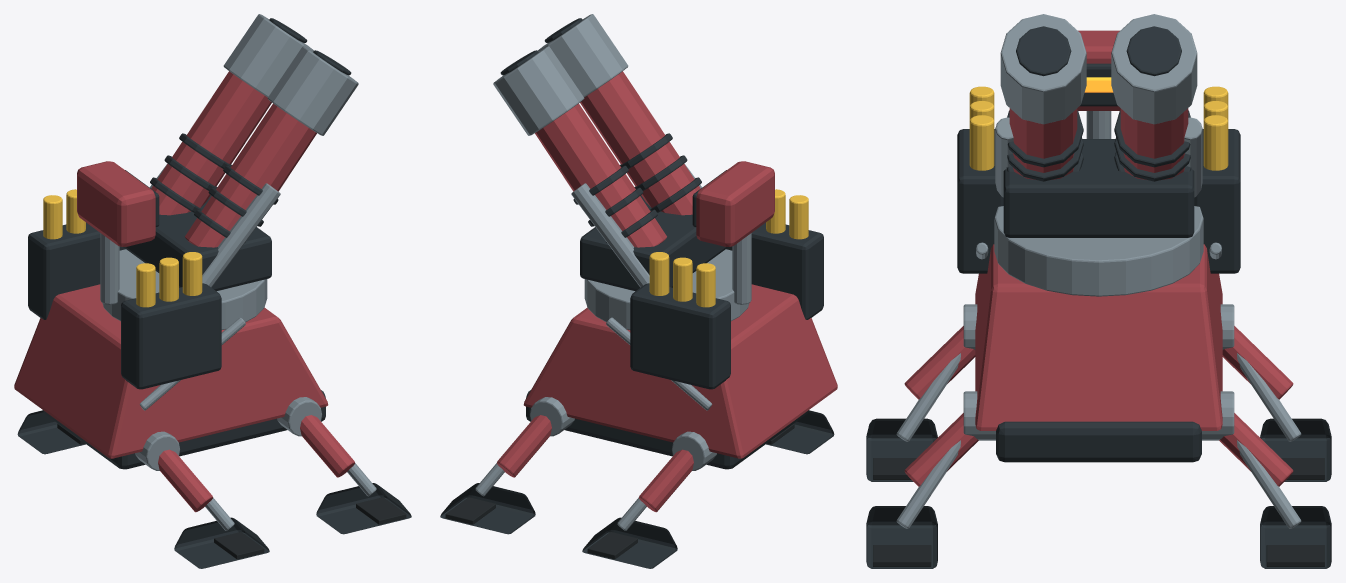
File: Mortar.glb
3 renders of one model, left to right at view 1: azimuth 30°, elevation 25°; view 2: azimuth 150°, elevation 25°; view 3: azimuth 270°, elevation 25°, orthographic. The views are drawn at different scales.
Visible parts, largest first — view 1: SM_Mortar_Body, SM_Mortar_Weapon, SM_Mortar_Sensor, SM_Mortar_LegRL, SM_Mortar_LegFL, SM_Mortar_LegRR; view 2: SM_Mortar_Body, SM_Mortar_Weapon, SM_Mortar_Sensor, SM_Mortar_LegRR, SM_Mortar_LegFR, SM_Mortar_LegRL; view 3: SM_Mortar_Body, SM_Mortar_Weapon, SM_Mortar_LegFL, SM_Mortar_LegFR, SM_Mortar_LegRL, SM_Mortar_LegRR, SM_Mortar_Sensor.
Boxes of the visible parts, bbox=[...] form: SM_Mortar_Body: bbox=[14, 189, 328, 469]; SM_Mortar_Weapon: bbox=[123, 14, 358, 291]; SM_Mortar_Sensor: bbox=[77, 161, 159, 304]; SM_Mortar_LegRL: bbox=[135, 431, 269, 568]; SM_Mortar_LegFL: bbox=[277, 397, 411, 534]; SM_Mortar_LegRR: bbox=[17, 410, 85, 454]; SM_Mortar_Body: bbox=[523, 189, 837, 469]; SM_Mortar_Weapon: bbox=[493, 14, 728, 291]; SM_Mortar_Sensor: bbox=[692, 161, 774, 304]; SM_Mortar_LegRR: bbox=[582, 431, 716, 568]; SM_Mortar_LegFR: bbox=[440, 397, 574, 534]; SM_Mortar_LegRL: bbox=[766, 410, 834, 454]; SM_Mortar_Body: bbox=[957, 86, 1240, 462]; SM_Mortar_Weapon: bbox=[995, 14, 1202, 237]; SM_Mortar_LegFL: bbox=[866, 391, 995, 568]; SM_Mortar_LegFR: bbox=[1202, 391, 1331, 568]; SM_Mortar_LegRL: bbox=[866, 304, 977, 481]; SM_Mortar_LegRR: bbox=[1220, 304, 1331, 481]; SM_Mortar_Sensor: bbox=[1077, 30, 1120, 138].
Size of the model in its own units: 1.27 by 1.92 by 1.51.
